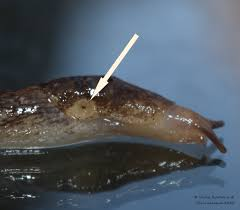slug: (1, 75, 229, 150)
